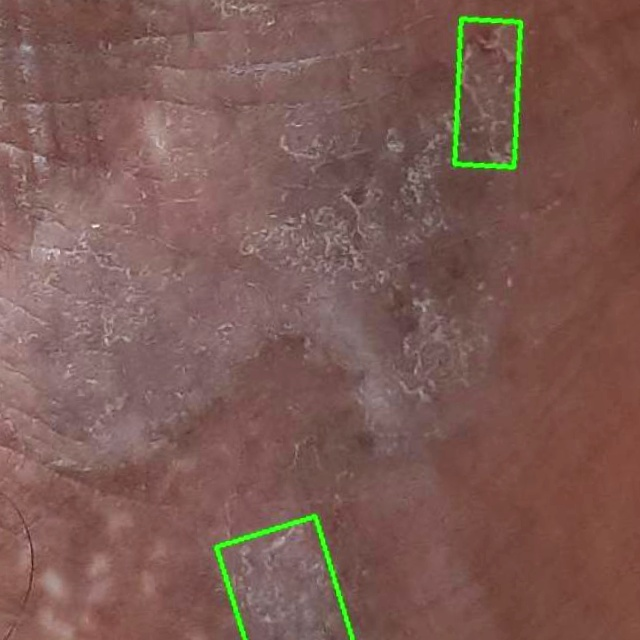Eczema: (217, 517, 352, 639), (456, 20, 521, 167)
